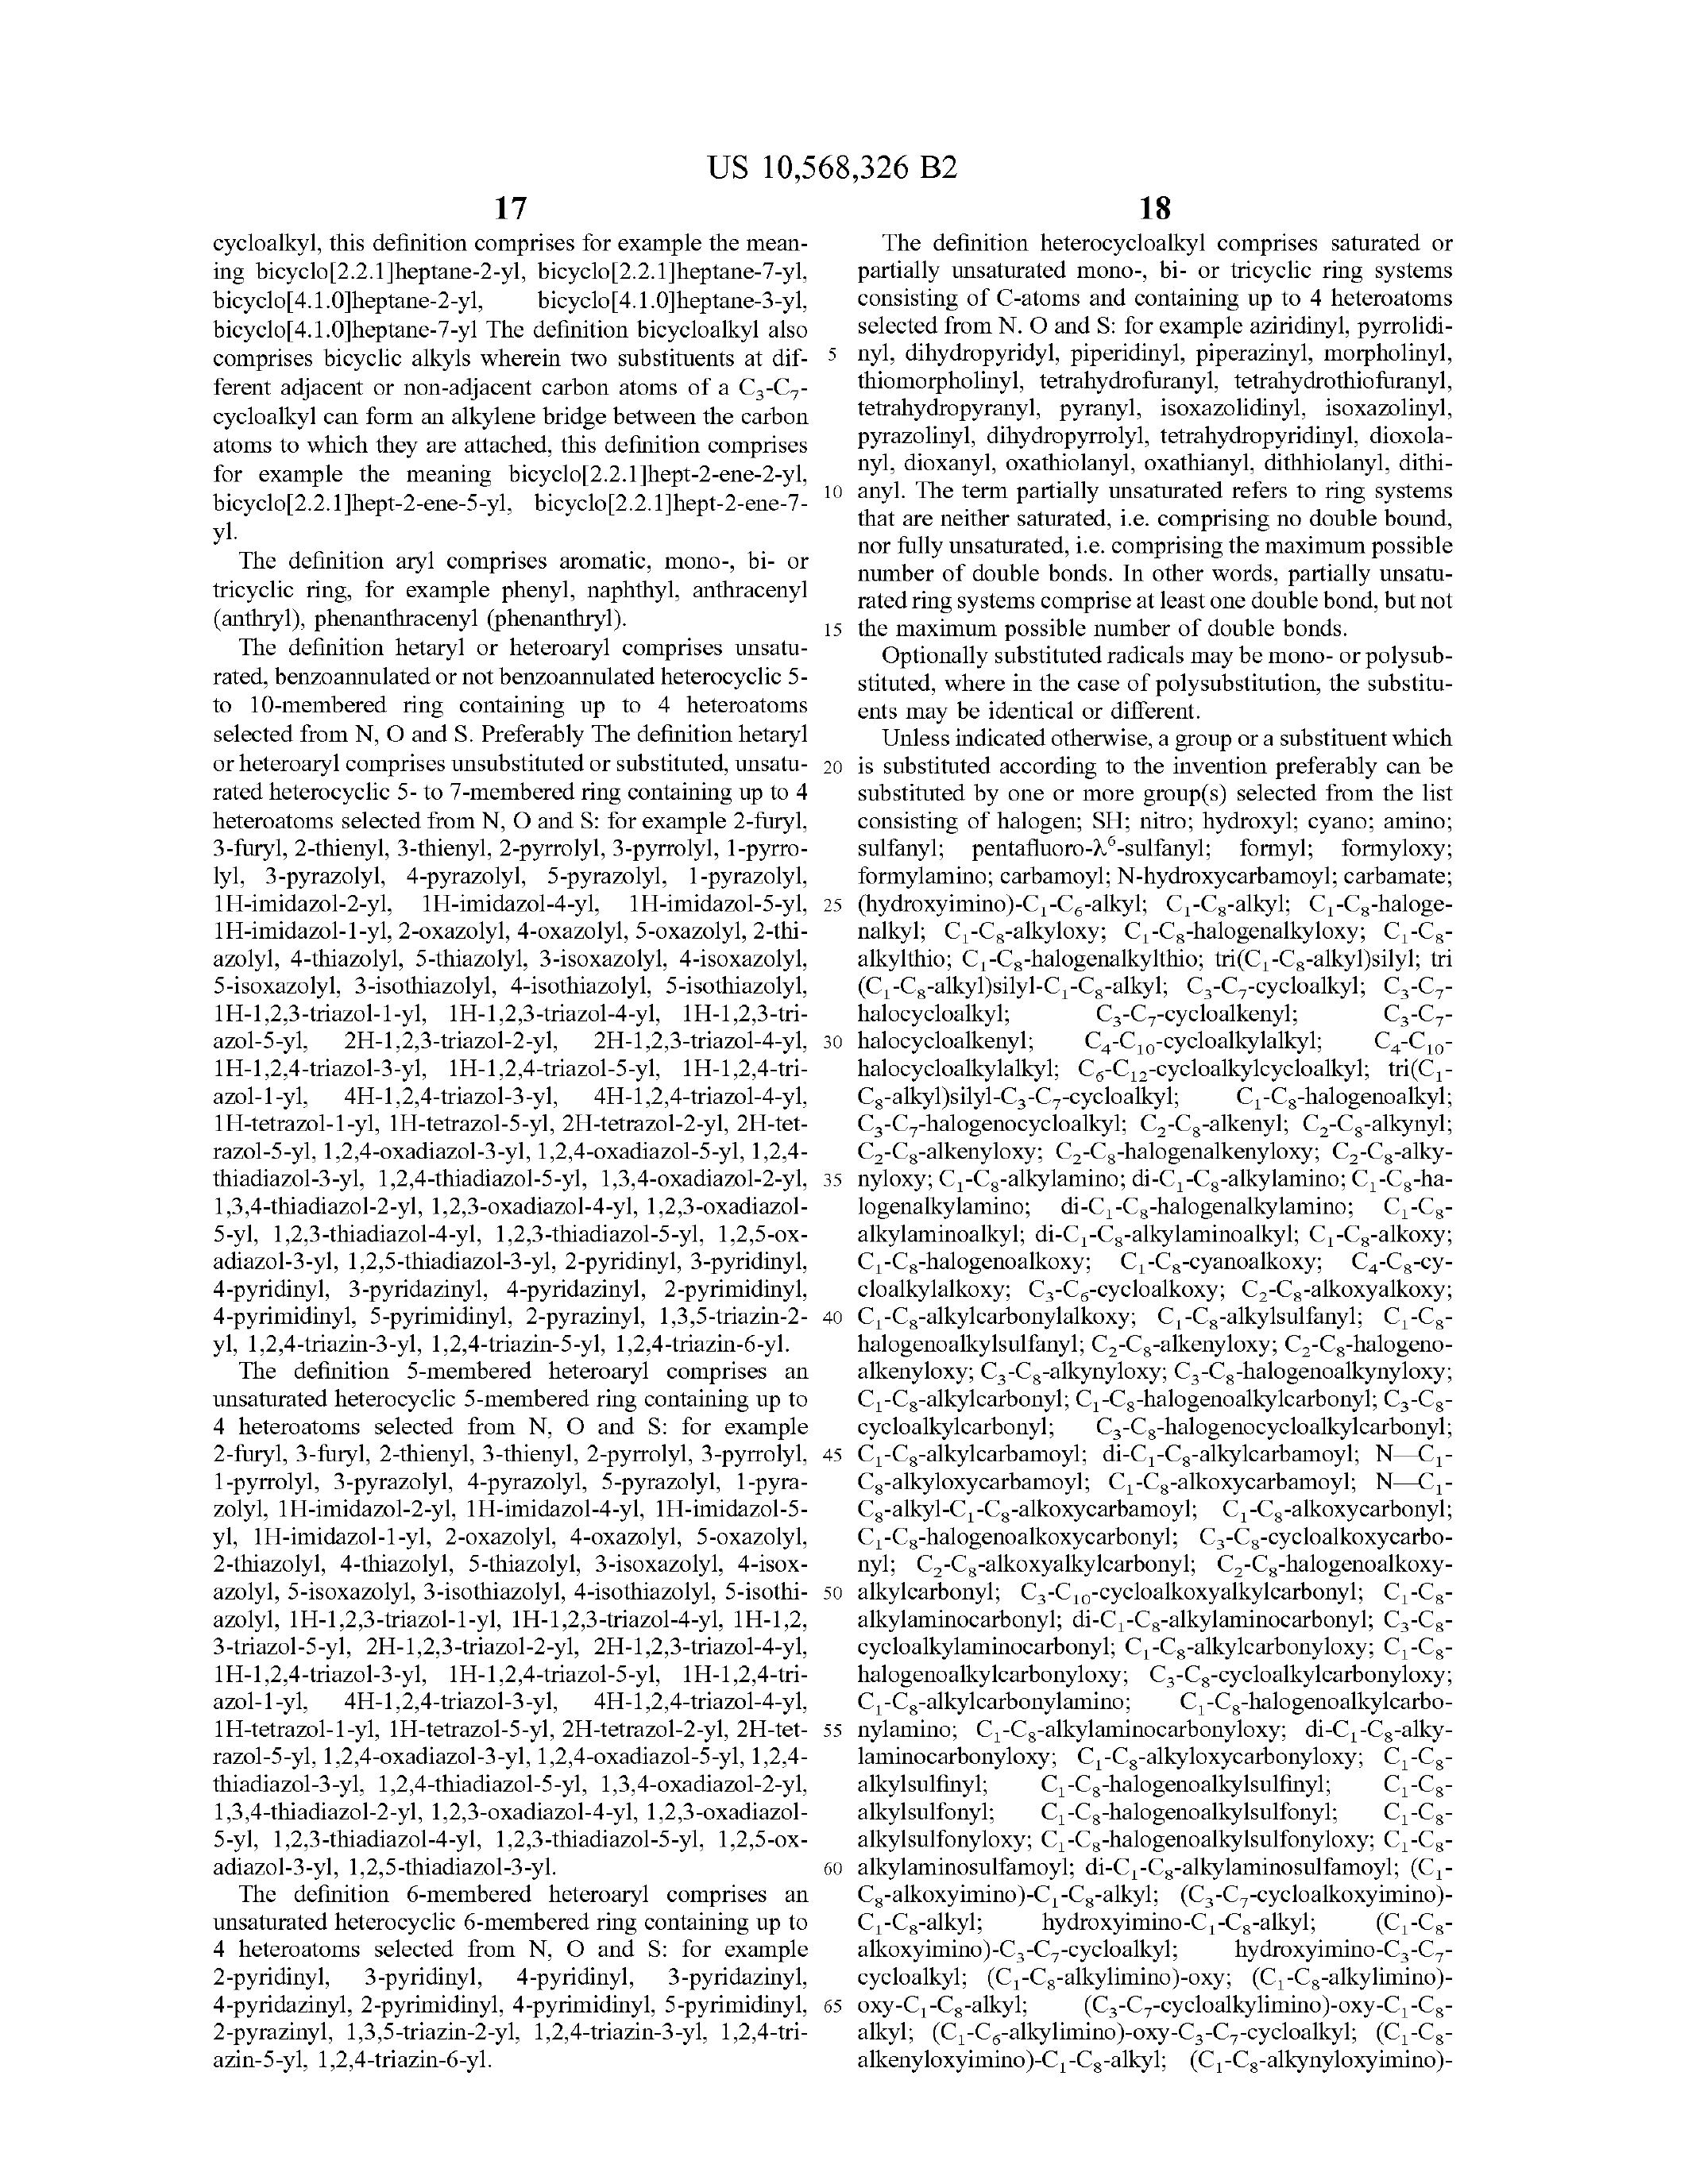substitutes: (849, 209, 1456, 720), (216, 1369, 798, 1870)
